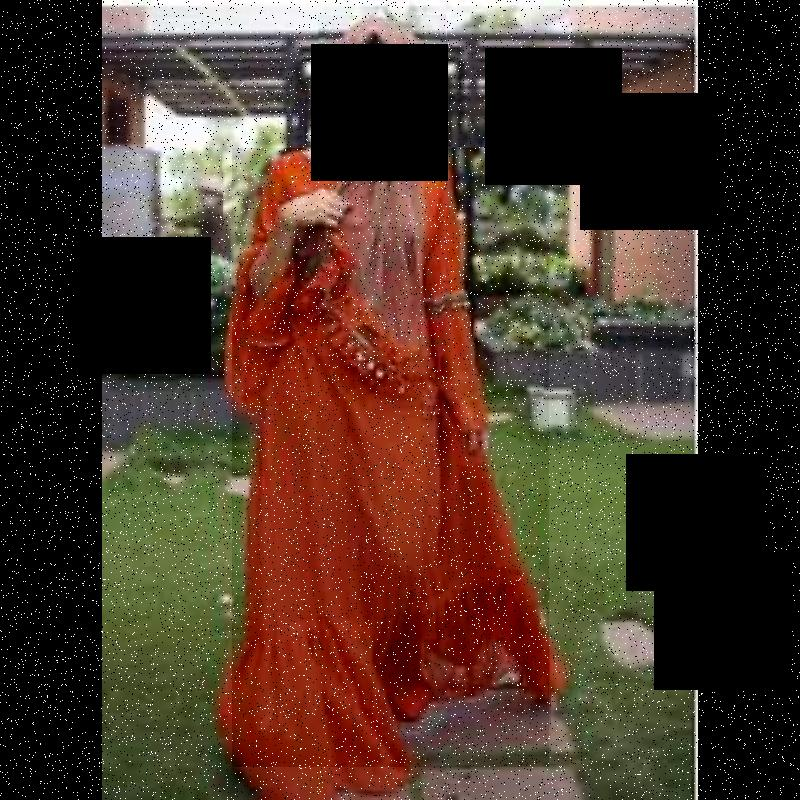Hijab: (319, 16, 446, 356)
Maxi: (233, 148, 549, 767)
